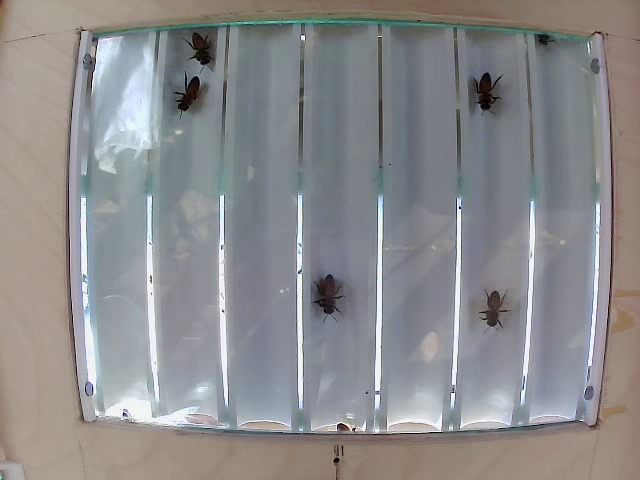bee: (301, 271, 360, 320), (471, 285, 512, 340), (184, 26, 235, 67), (475, 69, 510, 127), (171, 80, 213, 122)
